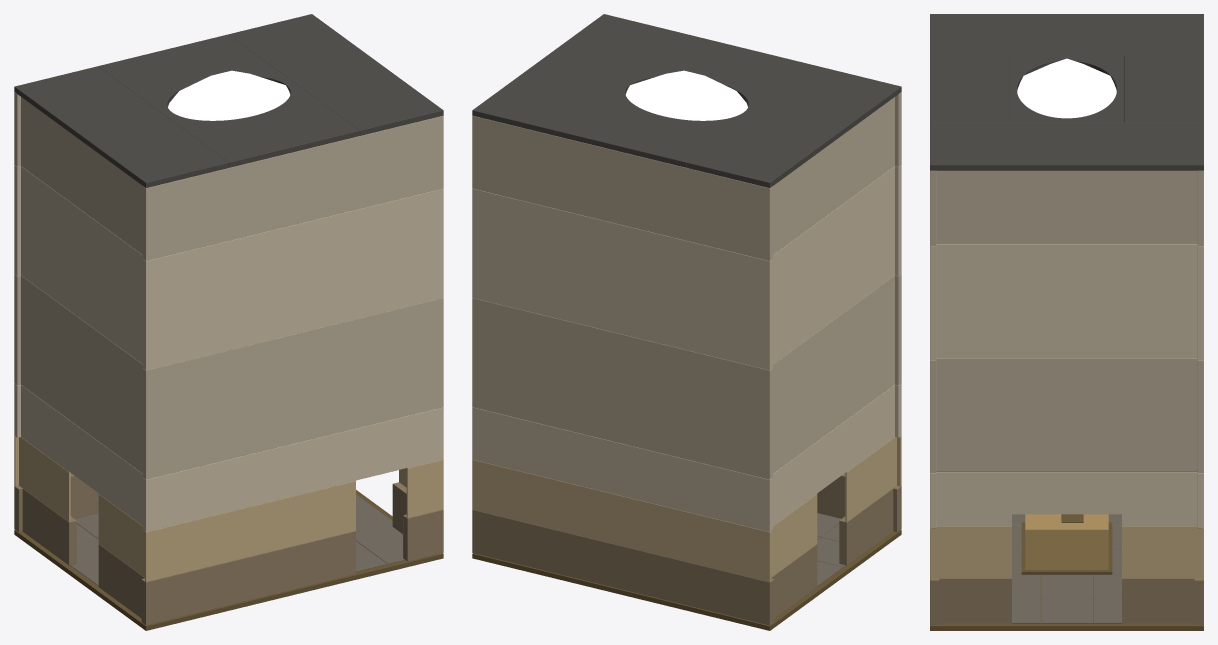
The model's file is crown.glb.
The picture shows the model from 3 angles, left to right: view 1: azimuth 30°, elevation 25°; view 2: azimuth 150°, elevation 25°; view 3: azimuth 270°, elevation 25°; orthographic projection. The views are drawn at different scales.
Visible parts, largest first — view 1: CROWN; view 2: CROWN; view 3: CROWN.
Part boxes in pixels (box(x1,y1,x2,y2)): CROWN: box(14, 14, 443, 630); CROWN: box(472, 14, 901, 630); CROWN: box(930, 14, 1203, 630).
Size of the model in its own units: 6.84 by 10.27 by 5.24.
